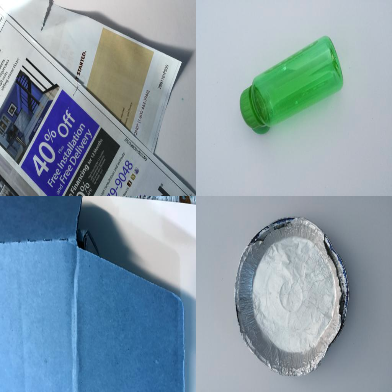cardboard: (1, 195, 188, 390)
metal: (234, 217, 349, 377)
paper: (1, 1, 195, 194)
plastic: (239, 35, 343, 134)
